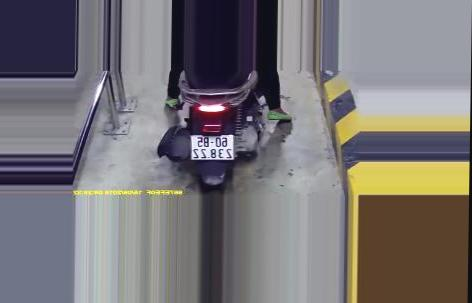License_Plate: (189, 130, 239, 165)
